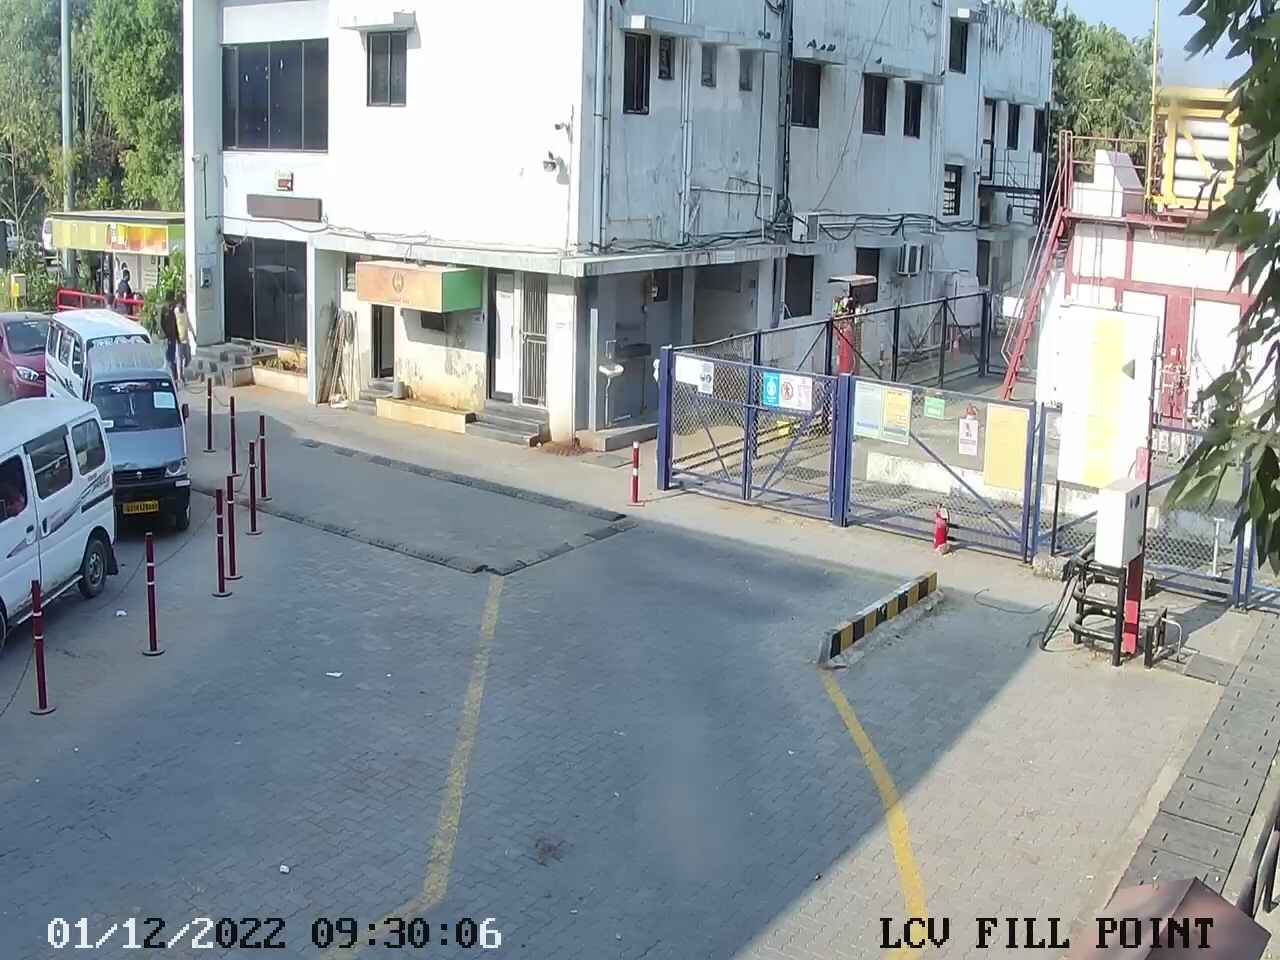Car: (1, 384, 125, 661), (78, 333, 201, 536), (41, 299, 155, 412), (1, 302, 60, 408)
